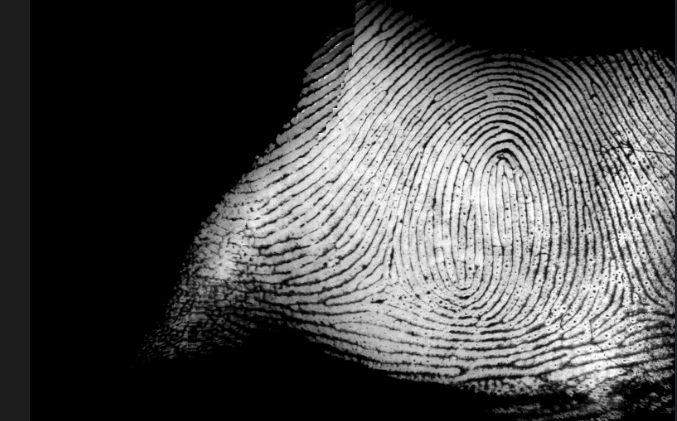nucelo: (483, 151, 528, 217)
verticilo: (368, 262, 402, 299), (605, 285, 636, 318)
